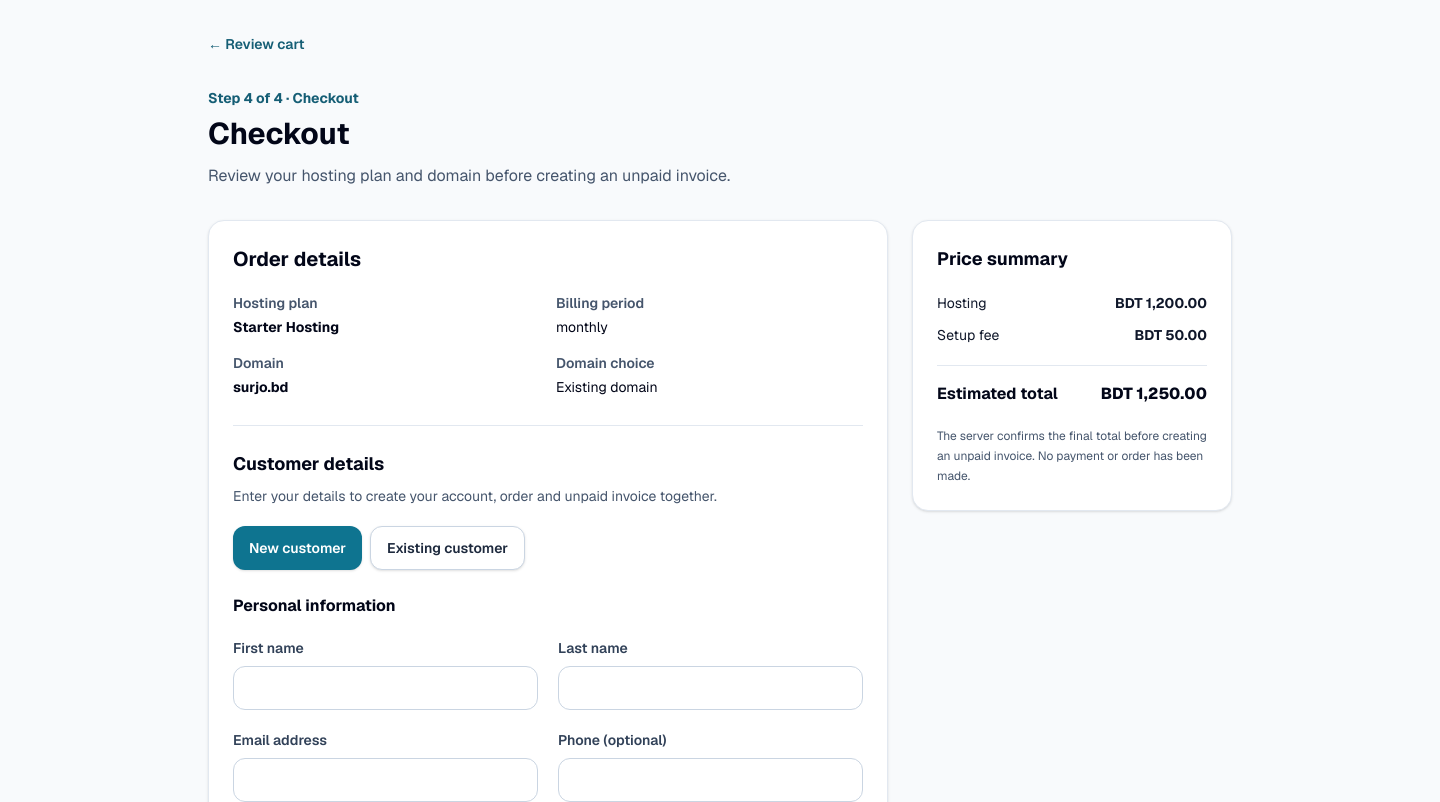
public checkout review › shows a guest the selected order before account access
Expected: the heading "Order details" is shown, [233,246,361,272]
Expected: the text "surjo.bd" is shown, [233,378,288,396]
What coordinates should you click on to do the following:
click the button "Existing customer"
I would click on:
 (448, 548)
Its box is [370,526,525,570].
(page scrolled)
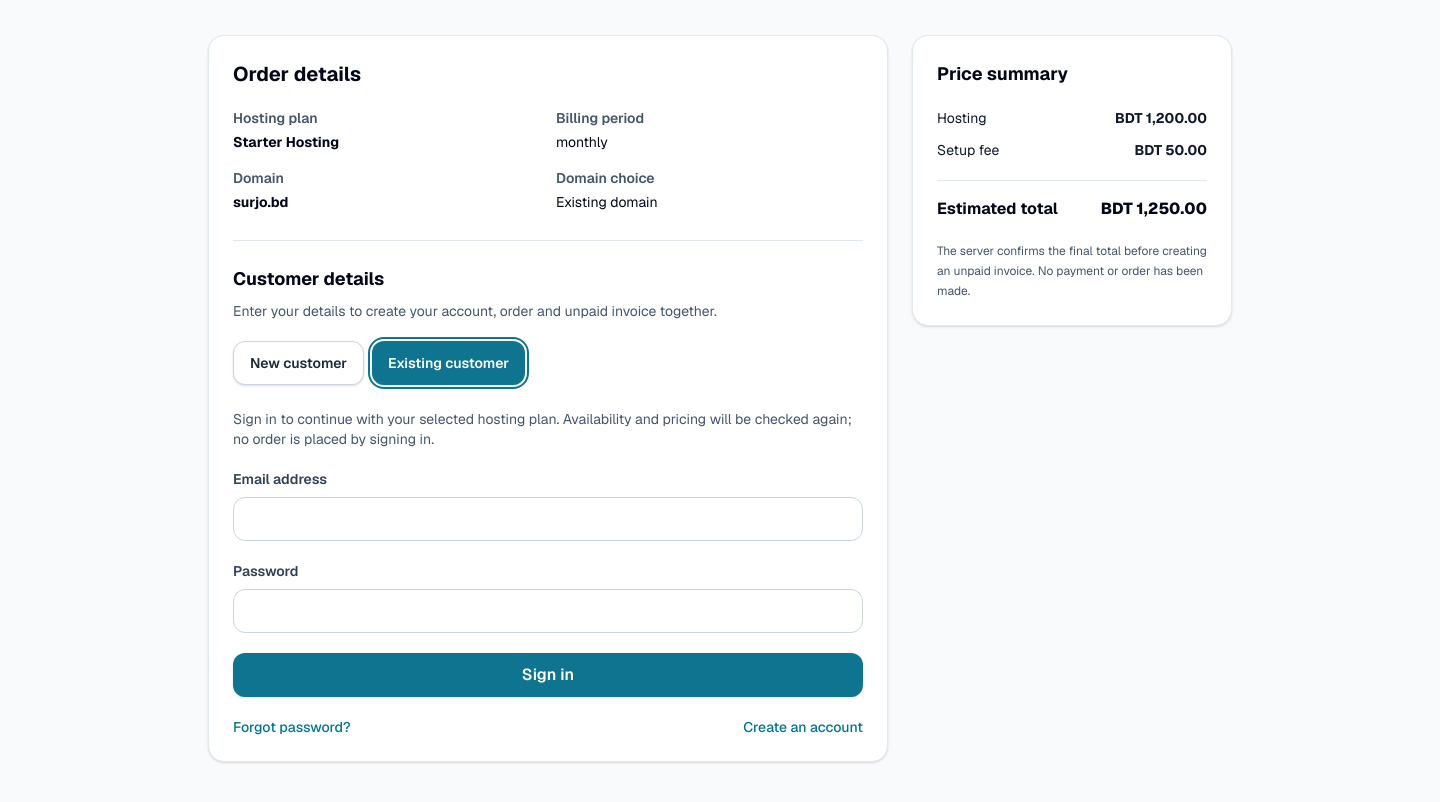
Result: the button "Sign in" is shown at [233,653,863,697]
What coordinates should you click on to do the following:
click the button "Create an account"
I would click on:
 (803, 727)
Its box is [743,717,863,737].
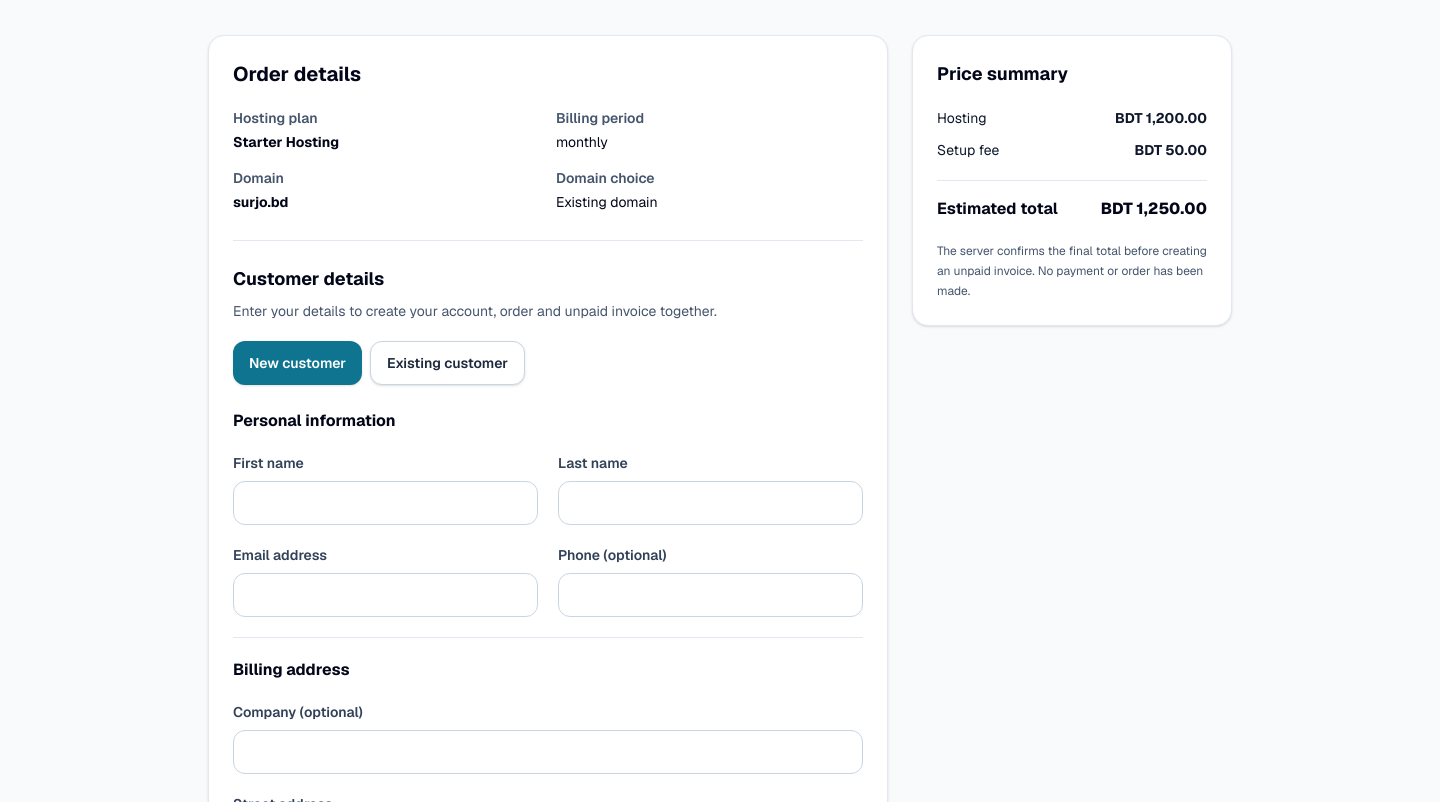
Result: the field labelled "First name" is shown at [233,481,538,525]
